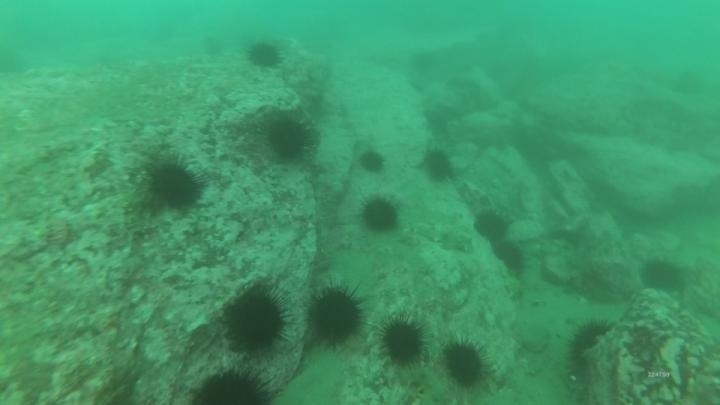echinus: (221, 284, 291, 355), (304, 281, 367, 347), (143, 156, 206, 212), (190, 365, 276, 405), (264, 113, 315, 163), (378, 316, 427, 368), (441, 337, 490, 389), (565, 317, 613, 365), (639, 257, 686, 295), (359, 195, 401, 235), (420, 147, 456, 184), (491, 239, 527, 275), (472, 209, 510, 243), (245, 39, 284, 71), (357, 148, 387, 176), (200, 33, 226, 58)
holothurian: (408, 219, 474, 254), (399, 361, 450, 405)
